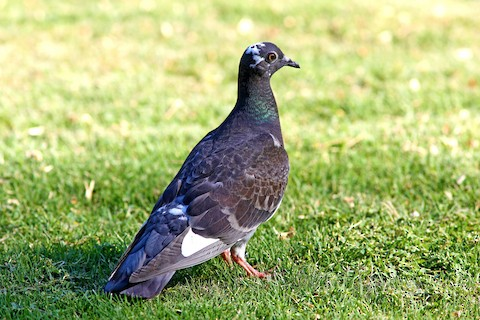pigeon: (101, 39, 304, 302)
